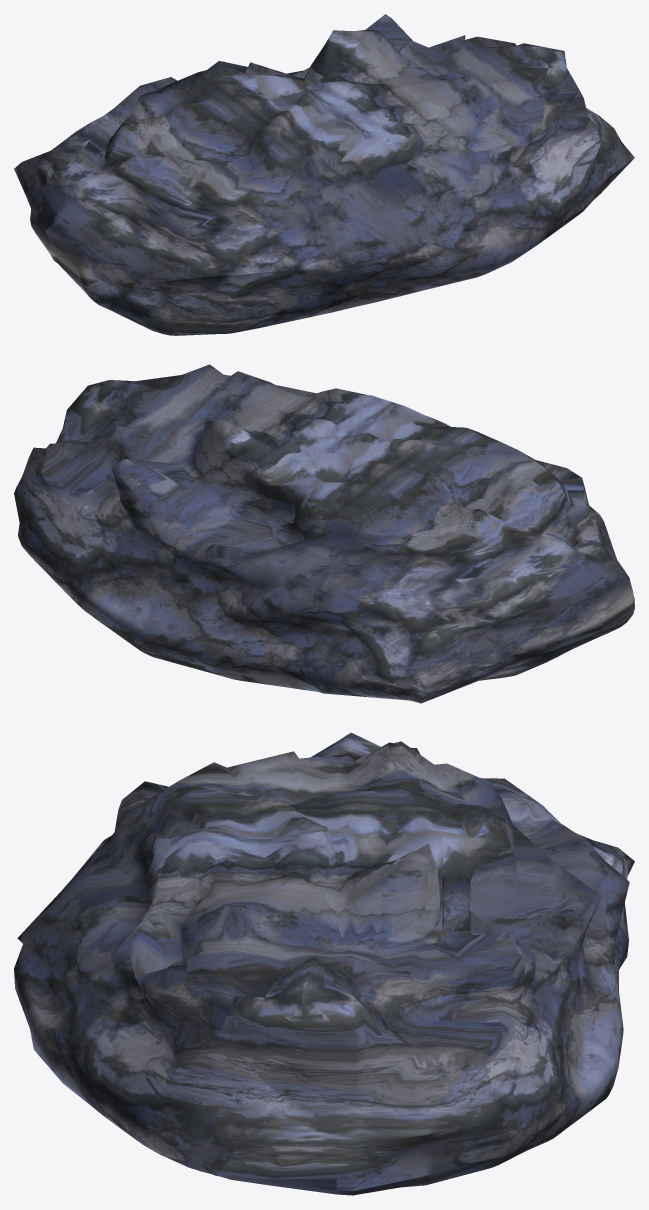
The model's file is Outside_Rock.fbx.
3 renders of one model, top to bottom at view 1: azimuth 30°, elevation 25°; view 2: azimuth 150°, elevation 25°; view 3: azimuth 270°, elevation 25°, orthographic. The views are drawn at different scales.
Visible parts, largest first — view 1: lowpoly_rock; view 2: lowpoly_rock; view 3: lowpoly_rock.
Boxes of the visible parts, x1,y1,x2,y2 form: lowpoly_rock: (14,14,634,335); lowpoly_rock: (14,364,634,703); lowpoly_rock: (14,732,634,1195).
Size of the model in its own units: 81.34 by 29.34 by 56.59.
